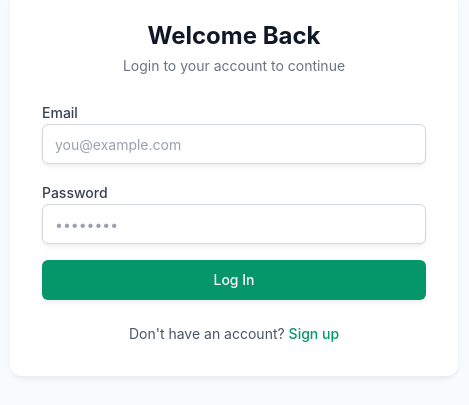
Login › shows validation error for short password
Type "user@example.com" into the field labelled "Email".
click(234, 144); type("user@example.com")  # box [42,124,426,164]
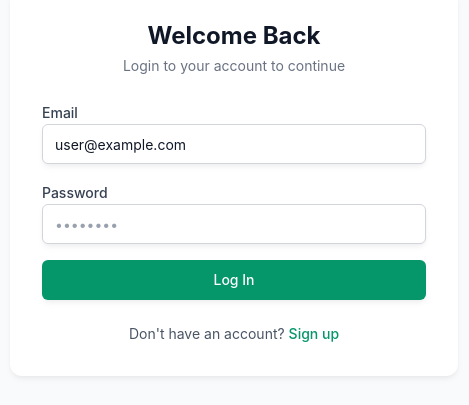
Type "123" into the password field labelled "Password".
click(234, 224); type("123")  # box [42,204,426,244]
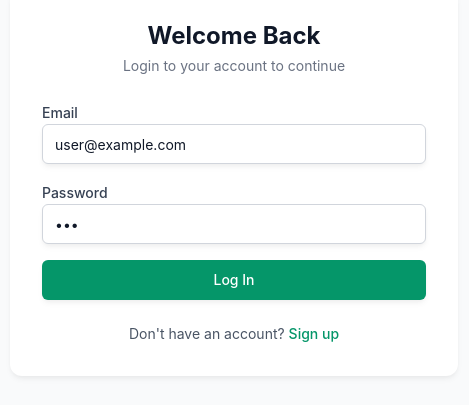
Submit the form "Email Password Log In", box [42,100,426,300]
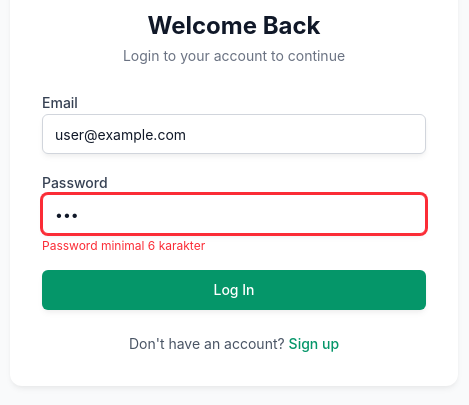
Now the text "Password minimal 6 karakter" is shown, box [42,238,205,253]
